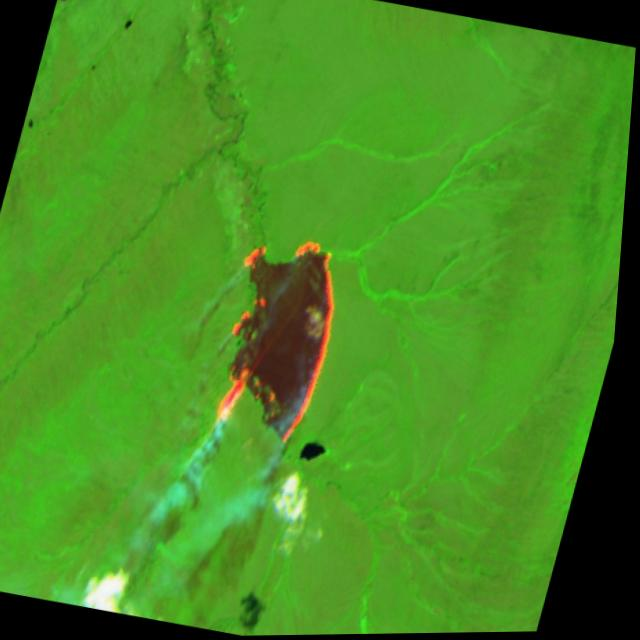fire: (198, 225, 363, 452)
